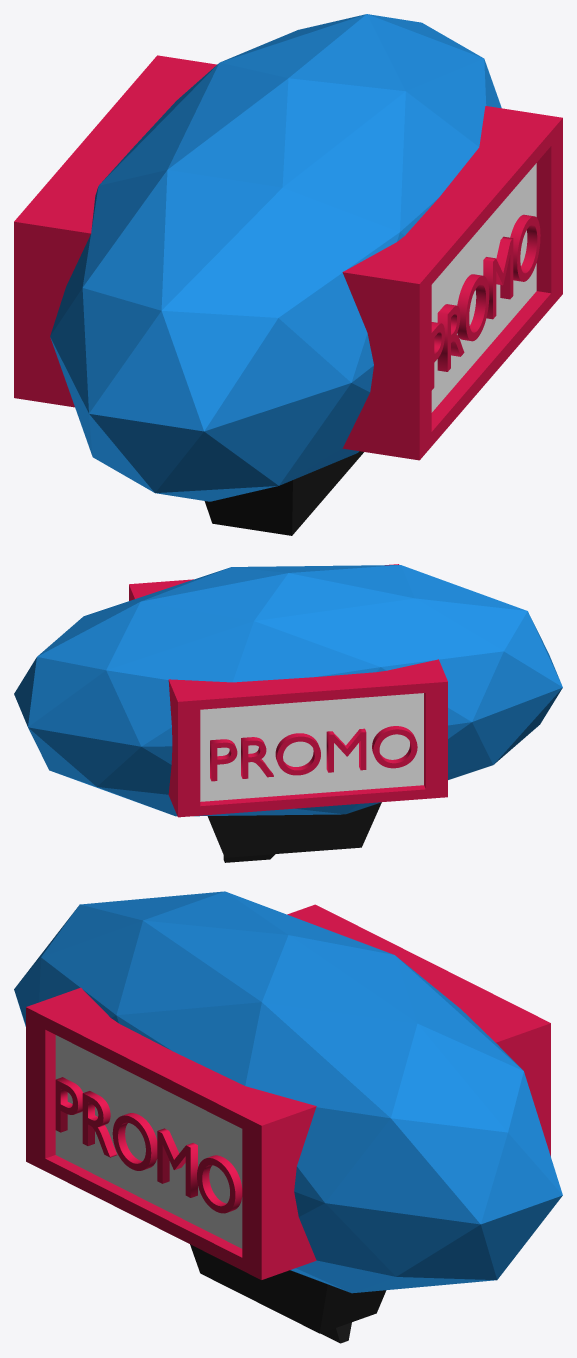
Rendered from kapal_terbang_iso.gltf.
The picture shows the model from 3 angles, top to bottom: view 1: azimuth 30°, elevation 25°; view 2: azimuth 150°, elevation 25°; view 3: azimuth 270°, elevation 25°; orthographic projection. The views are drawn at different scales.
Parts seen in each view (by area): view 1: kapal_terbang; view 2: kapal_terbang; view 3: kapal_terbang.
Boxes of the visible parts, x1,y1,x2,y2 form: kapal_terbang: (14, 14, 562, 535); kapal_terbang: (14, 564, 562, 862); kapal_terbang: (14, 891, 562, 1343).
Bounding box in the file's own units: 4.64 × 3.1 × 4.07.
